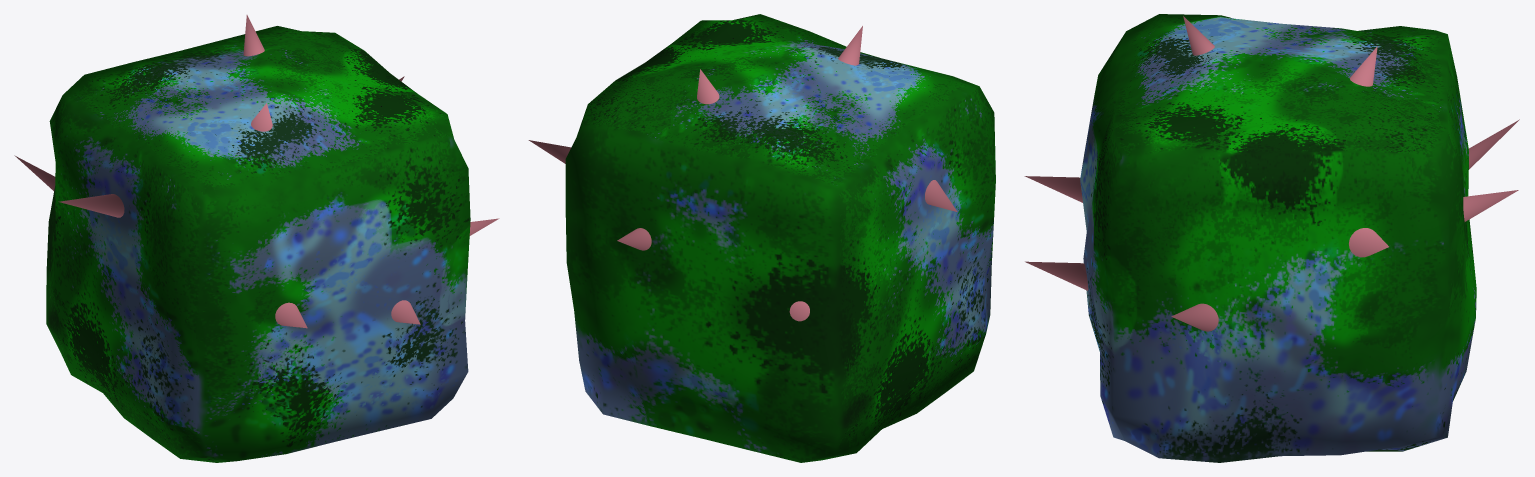
The model's file is Model_Gimmick_DesNemako.fbx.
The picture shows the model from 3 angles, left to right: view 1: azimuth 30°, elevation 25°; view 2: azimuth 150°, elevation 25°; view 3: azimuth 270°, elevation 25°; orthographic projection. The views are drawn at different scales.
Visible parts, largest first — view 1: pCone6; view 2: pCone6; view 3: pCone6.
Part boxes in pixels (x1,y1,x2,y2): pCone6: [14, 15, 499, 462]; pCone6: [528, 14, 995, 462]; pCone6: [1024, 14, 1519, 462].
Bounding box in the file's own units: 132 × 113 × 136.
